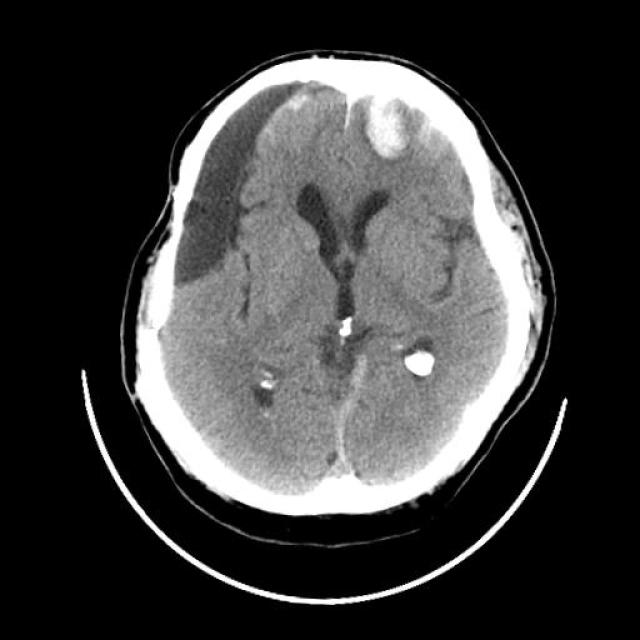Intraparenchymal: (332, 72, 458, 207)
Subdural: (328, 356, 368, 482)
